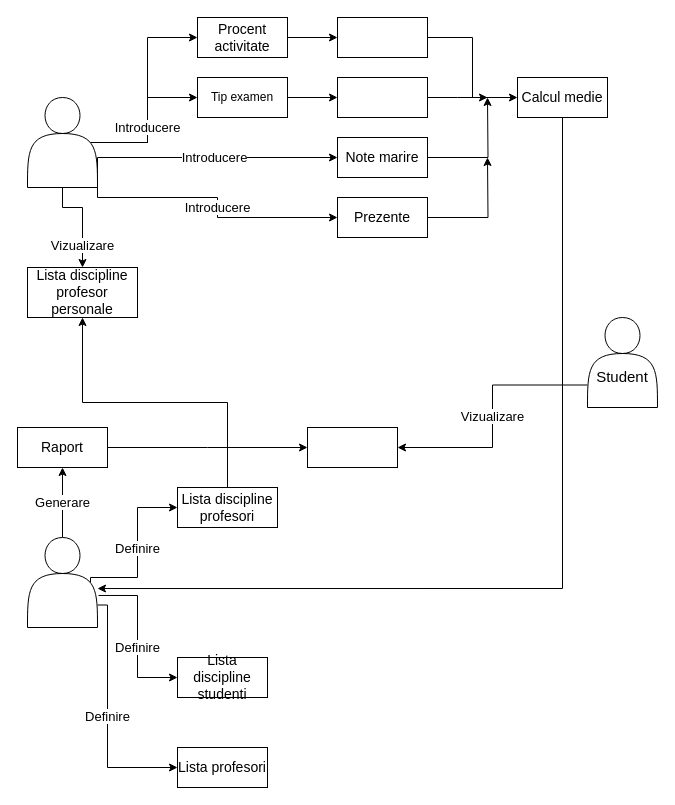
The diagram is 675 pixels wide and 805 high, and some of its shapes have lost their labels. The centre of each missing label's shape, as x and y in pixels:
Note activitate: point 382,37
Note examen: point 382,97
Note student personale: point 352,447
Profesor: point 62,142
Secretara: point 62,582
